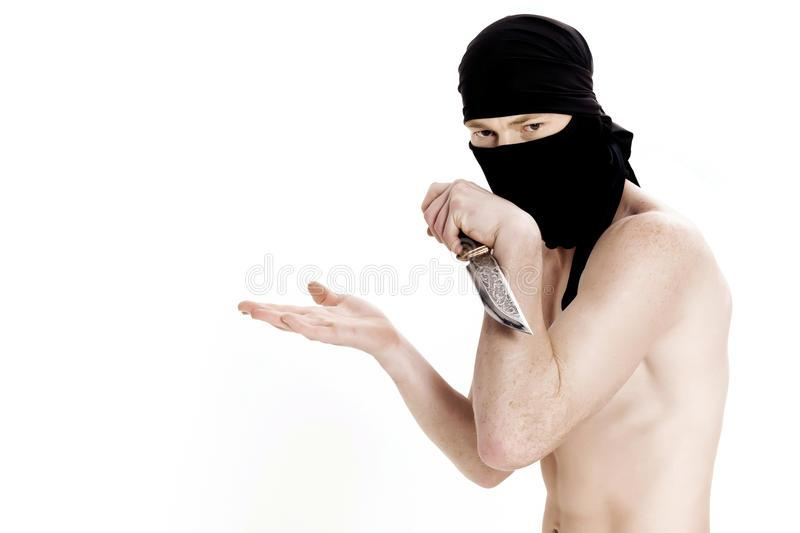criminal: (235, 11, 735, 533)
weapon: (449, 222, 536, 339)
